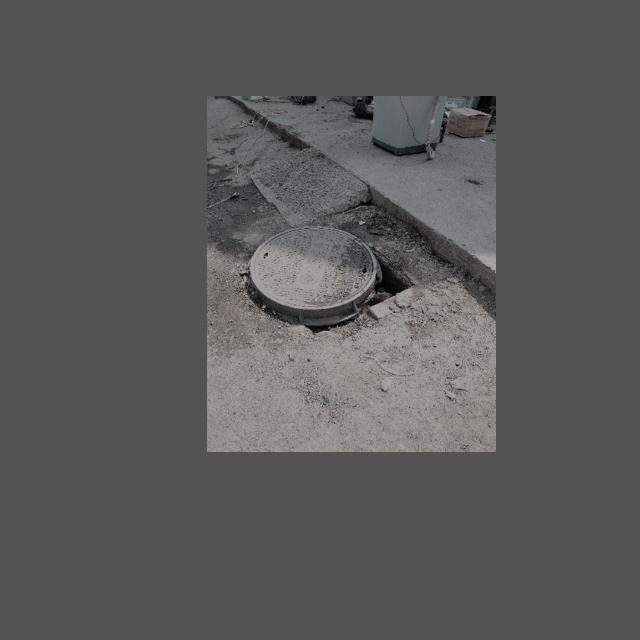circle: (242, 219, 401, 329)
